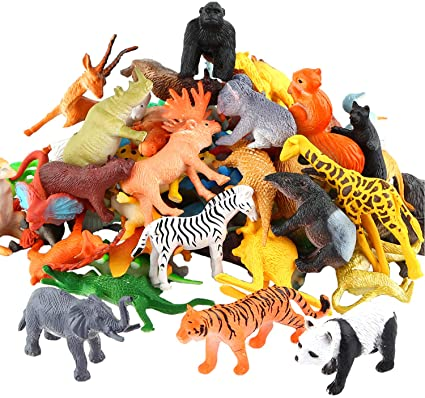toy: (33, 41, 423, 378)
